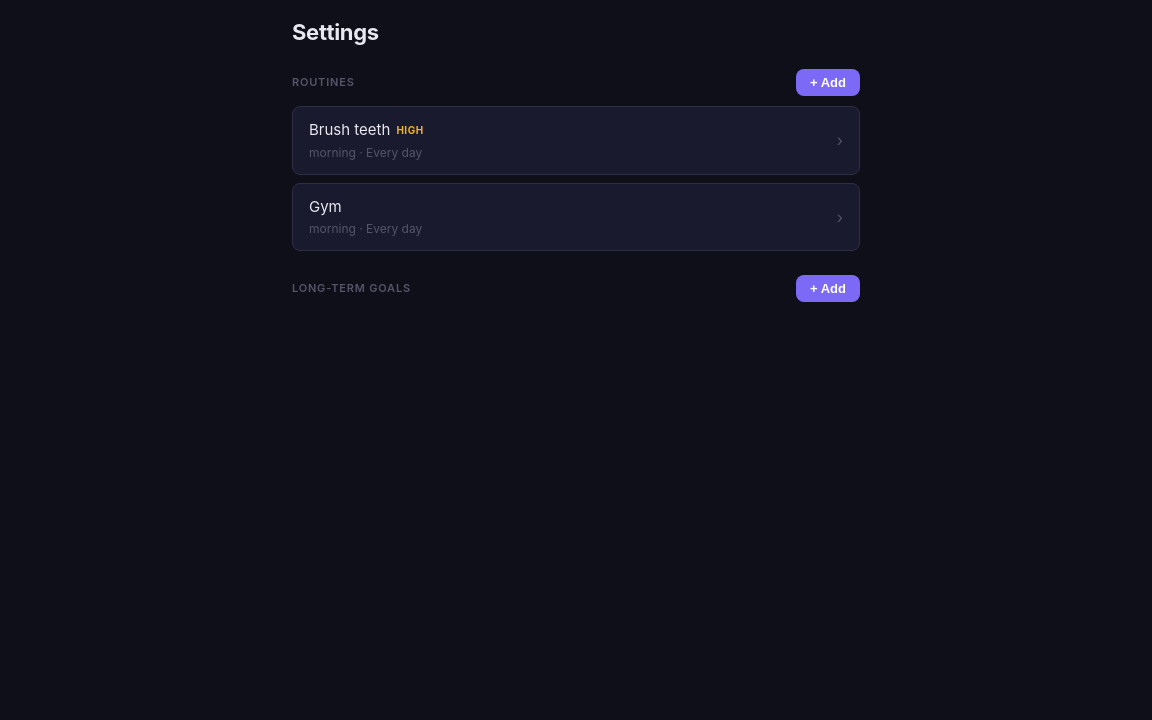
Test: SettingsView › saves changes to an existing routine
The image size is (1152, 720).
Click the element with class "settings-row" that starts with "Brush teeth" at (576, 140), box [292, 106, 860, 174]
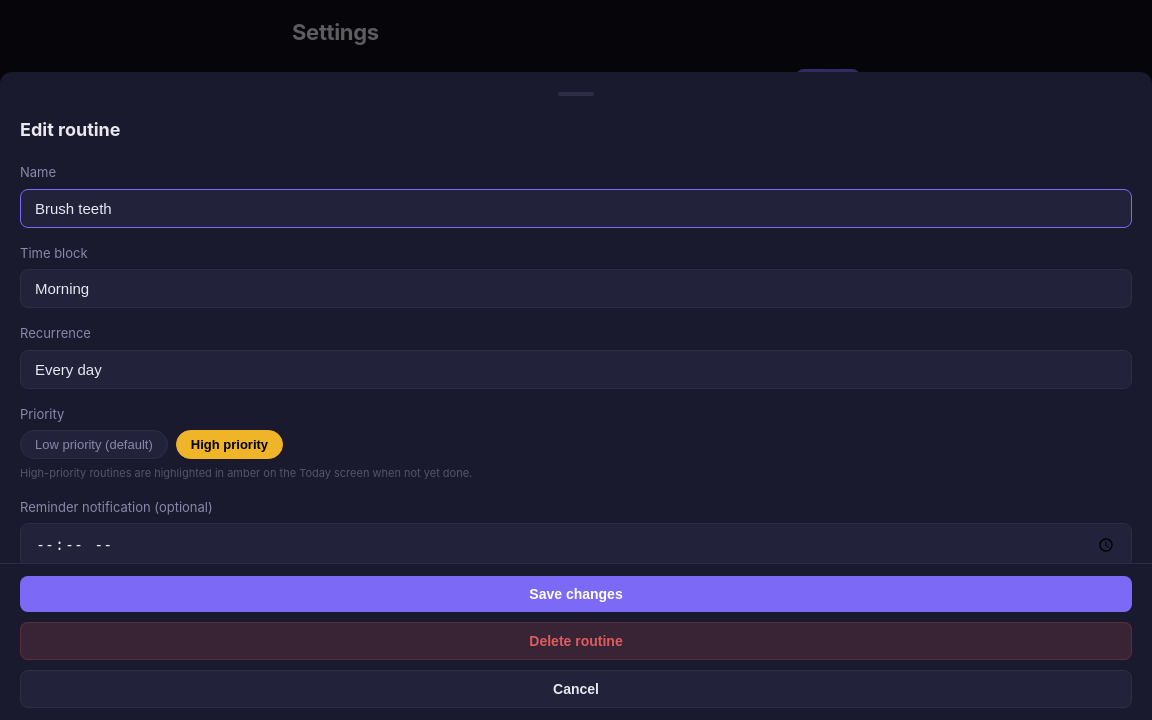
Replace the text in the field with "Renamed routine" at (576, 208), box [20, 188, 1132, 228]
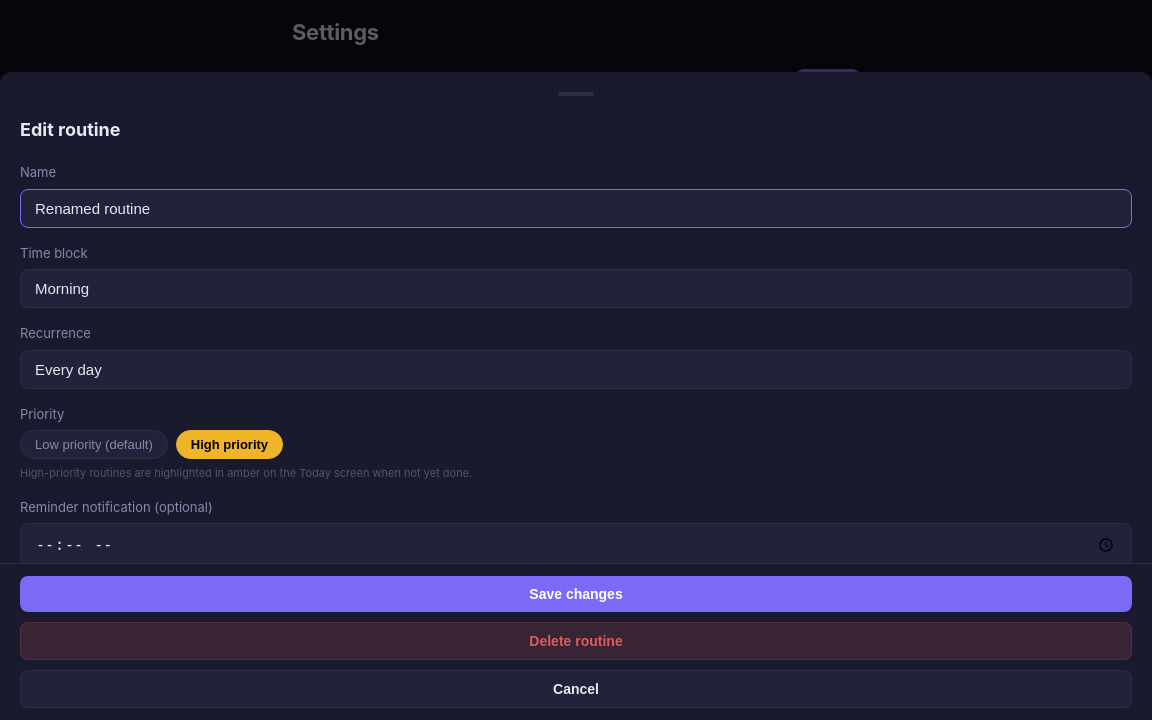
Click the button "Save changes" at (576, 594), box [20, 576, 1132, 612]
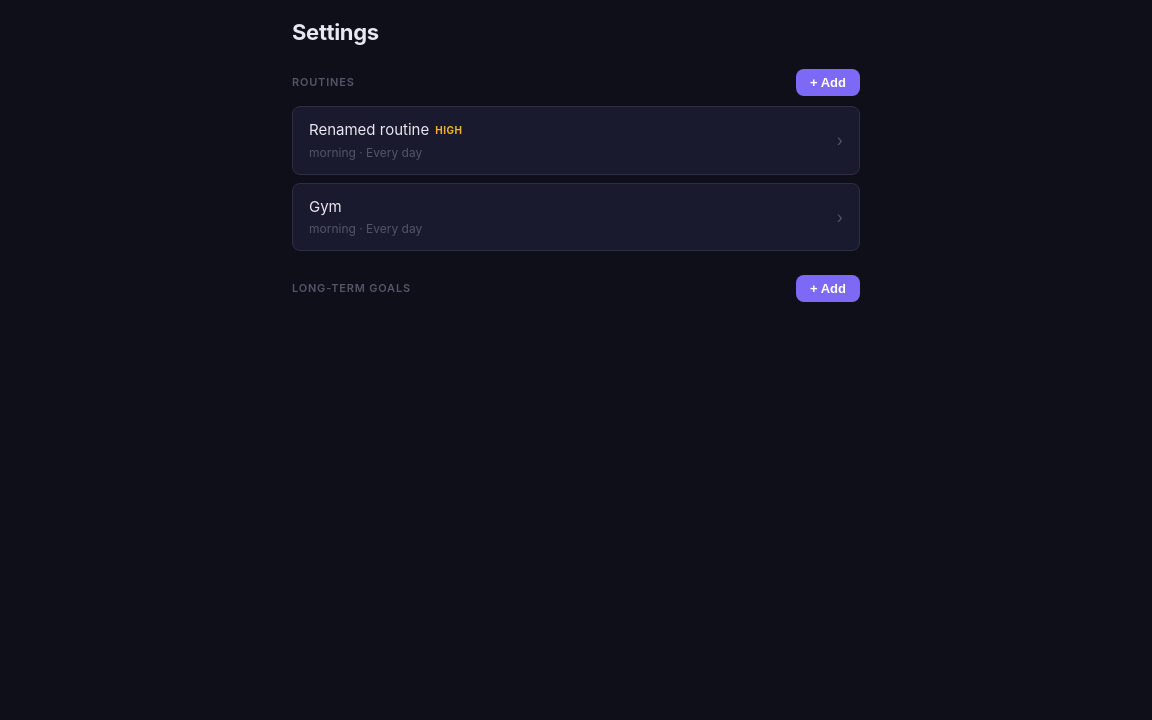
Expected: the text "Renamed routine" is shown, [309, 120, 429, 139]
